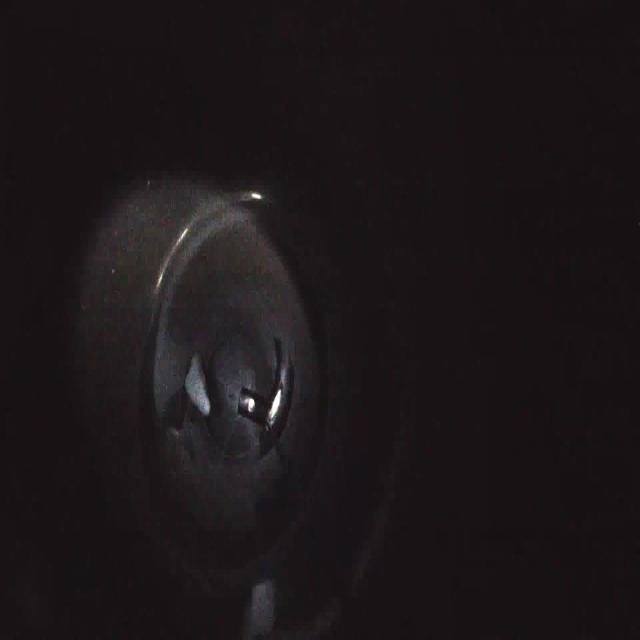impurity: (179, 340, 214, 422)
